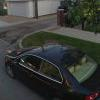Car: (4, 35, 100, 100)
